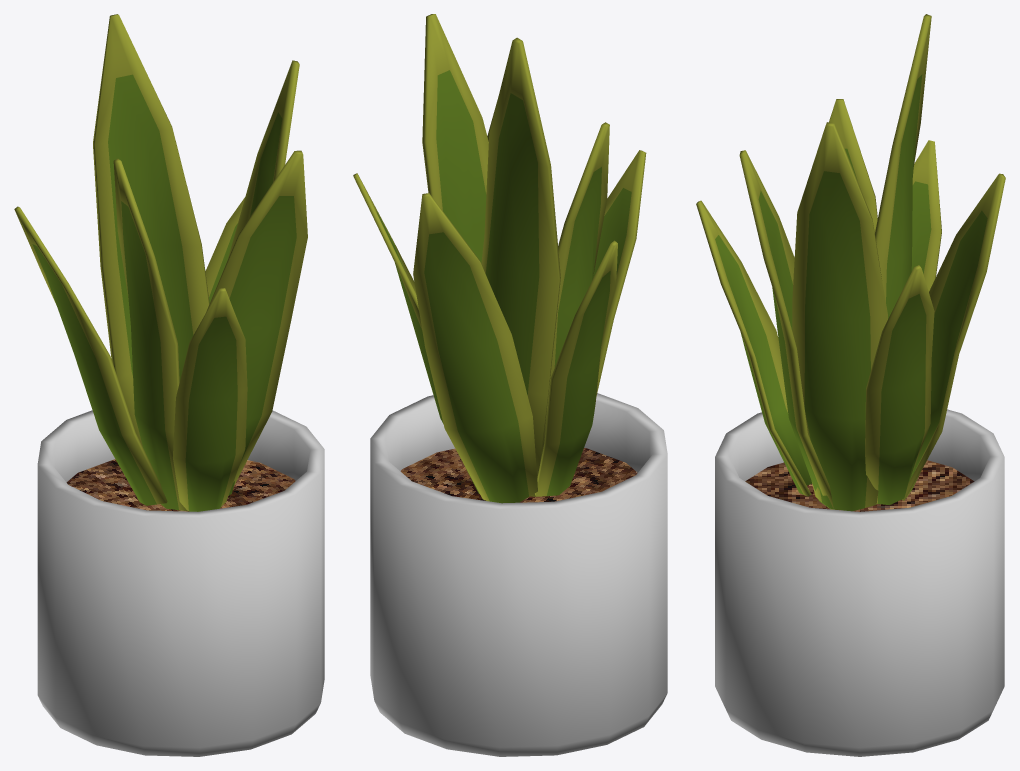
Rendered from snakeplant.glb.
3 renders of one model, left to right at view 1: azimuth 30°, elevation 25°; view 2: azimuth 150°, elevation 25°; view 3: azimuth 270°, elevation 25°, orthographic. The views are drawn at different scales.
Parts seen in each view (by area): view 1: Pot, Leaf (×7); view 2: Pot, Leaf (×7); view 3: Pot, Leaf (×8).
Boxes of the visible parts, x1,y1,x2,y2 form: Pot: (37, 410, 324, 756); Leaf (×7): (14, 14, 307, 511); Pot: (370, 393, 667, 756); Leaf (×7): (353, 14, 646, 503); Pot: (715, 409, 1004, 756); Leaf (×8): (696, 14, 1005, 511).
Size of the model in its own units: 0.1671 by 0.4096 by 0.1712.
4 materials, 1 textured.
